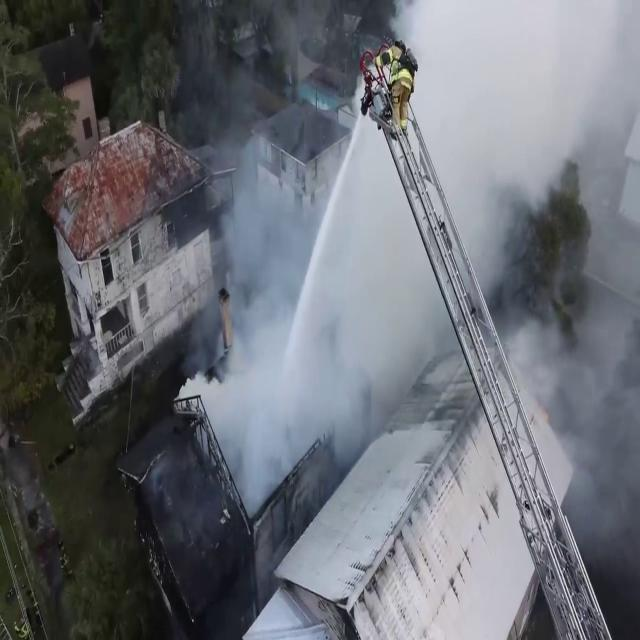Smoke: (207, 346, 349, 512)
